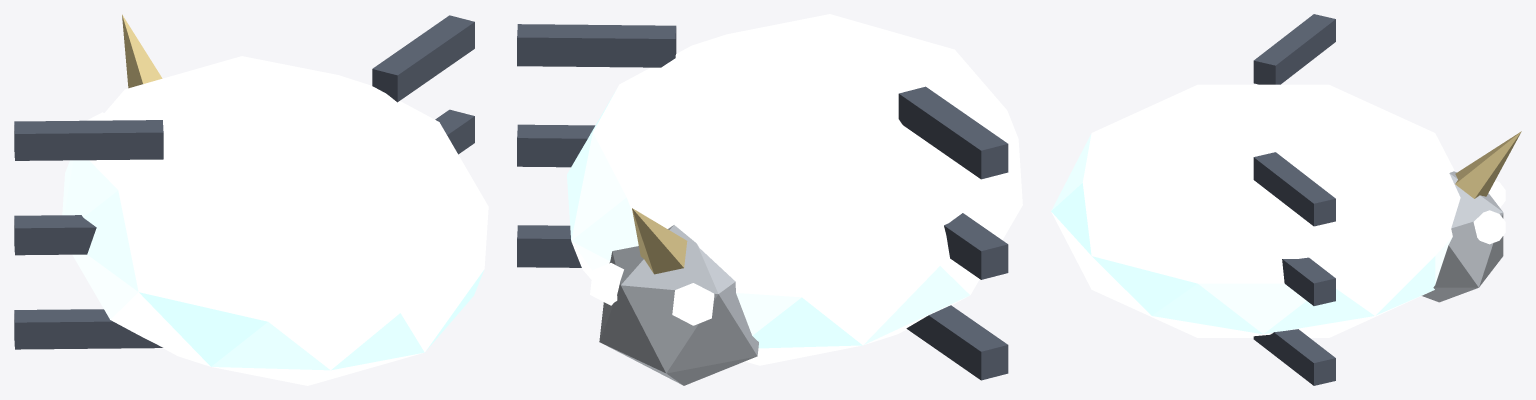
Rendered from beetle.glb.
3 renders of one model, left to right at view 1: azimuth 30°, elevation 25°; view 2: azimuth 150°, elevation 25°; view 3: azimuth 270°, elevation 25°, orthographic. The views are drawn at different scales.
Parts seen in each view (by area): view 1: beetle; view 2: beetle; view 3: beetle.
Boxes of the visible parts, box(x1,y1,x2,y2) form: beetle: box(14, 14, 488, 385); beetle: box(517, 14, 1022, 385); beetle: box(1051, 14, 1521, 385).
Bounding box in the file's own units: 0.7147 × 0.39 × 0.7495.
